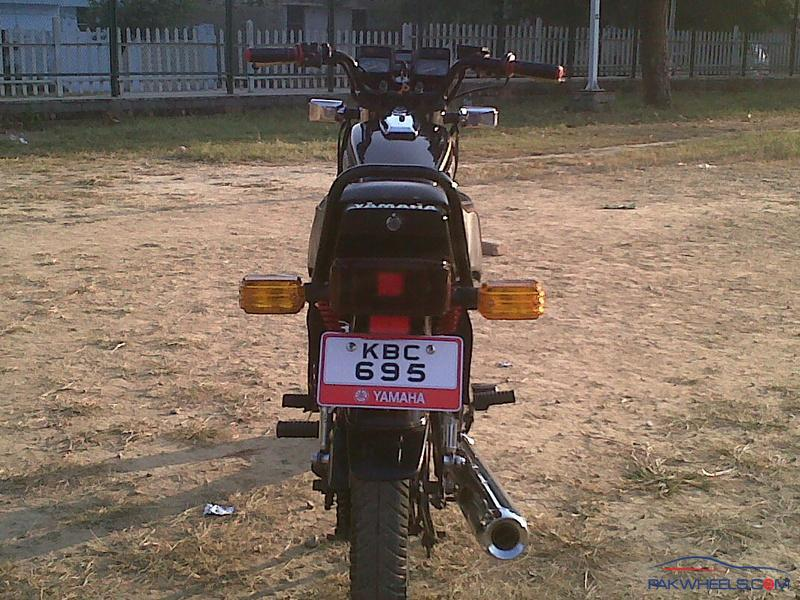number_plate: (316, 332, 466, 414)
